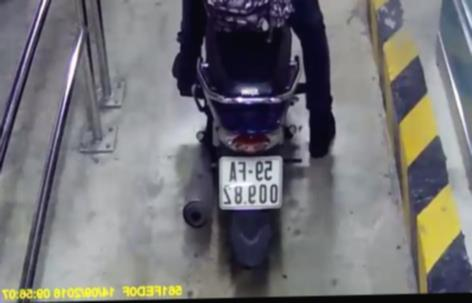License_Plate: (215, 150, 291, 213)
